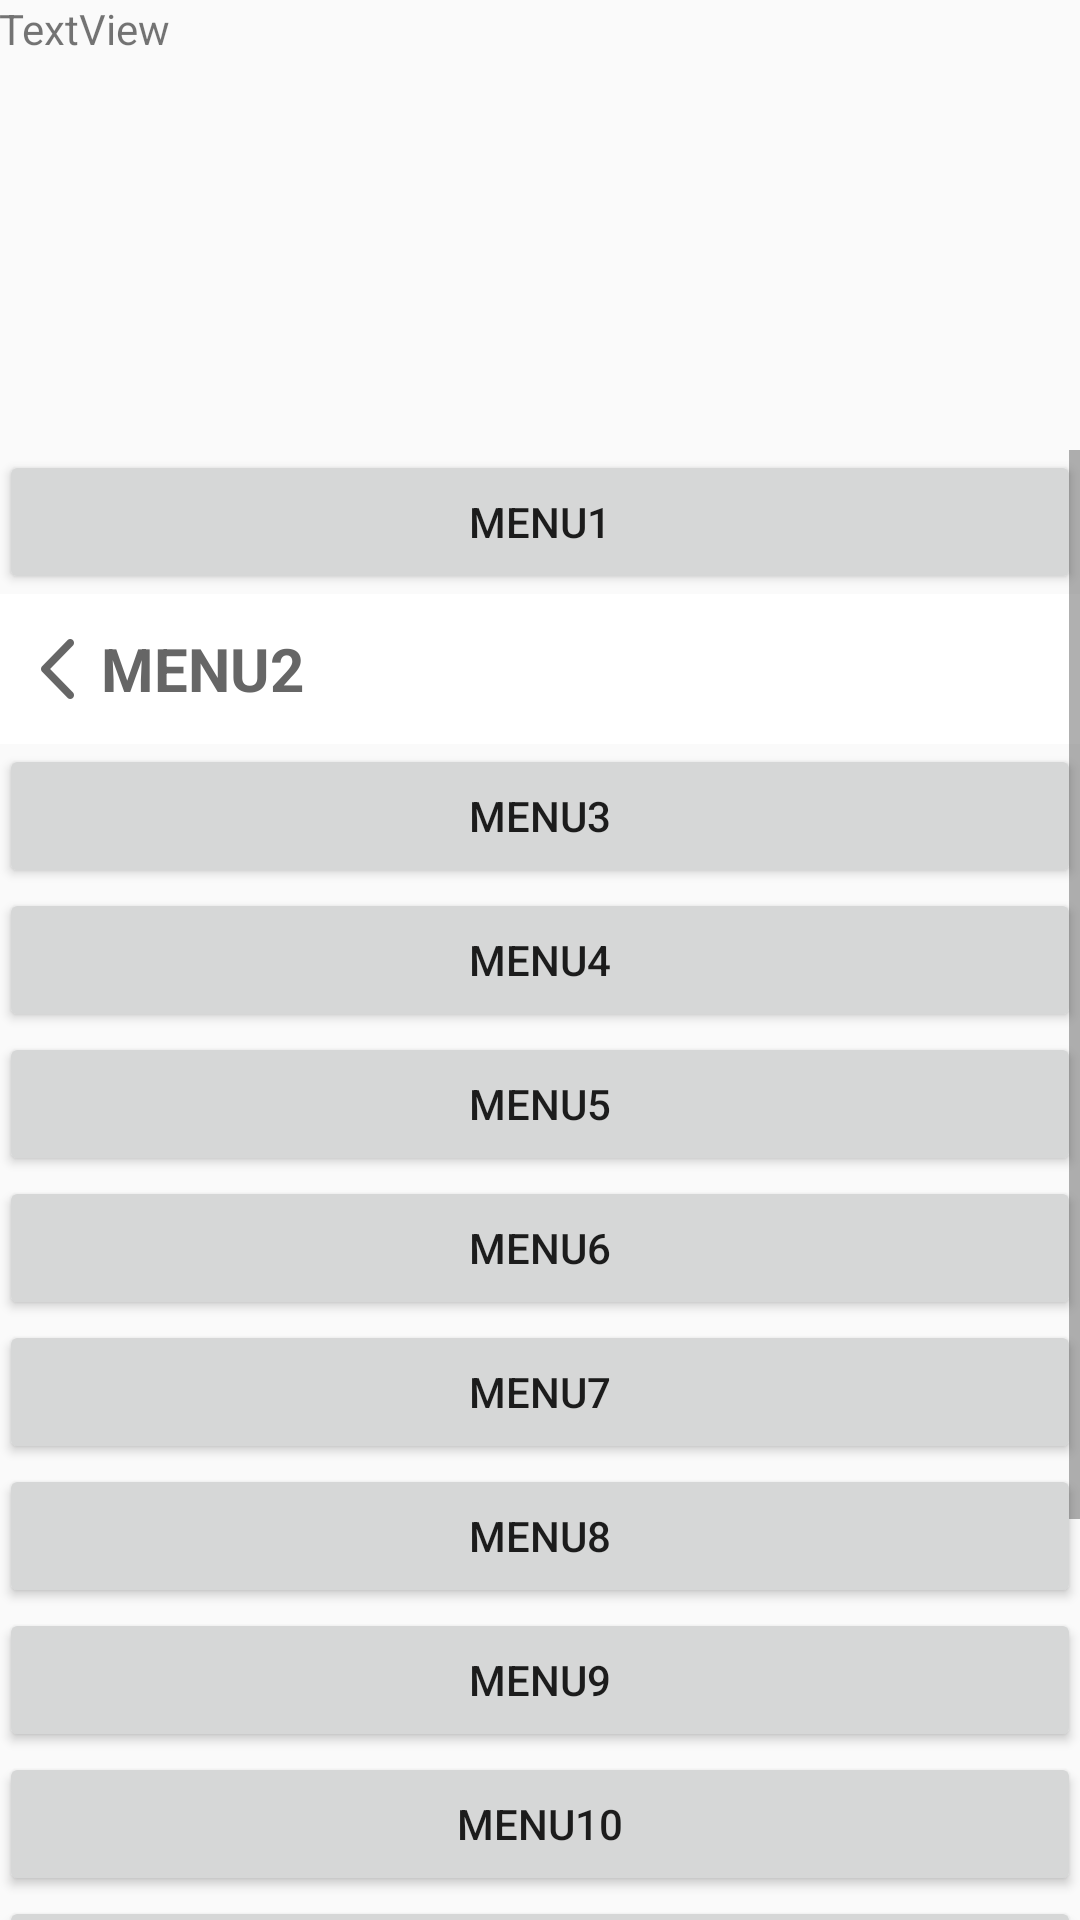

Icons on this 1080x1920 Android screen, each with its box as (x1, y1, x2, y2):
back: (41, 639, 74, 699)
